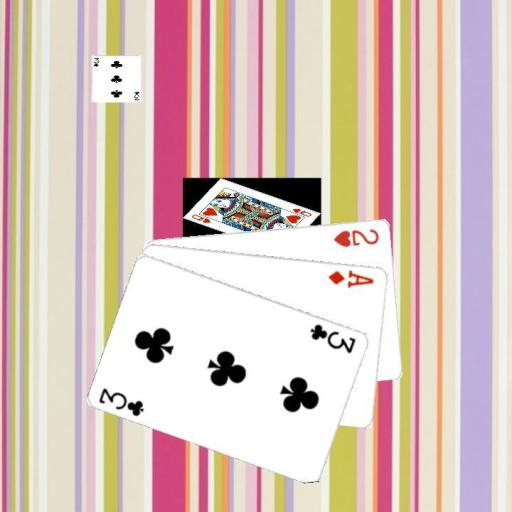2H: (331, 225, 381, 248)
3C: (307, 321, 358, 355), (95, 385, 146, 418)
AD: (326, 267, 376, 289)
